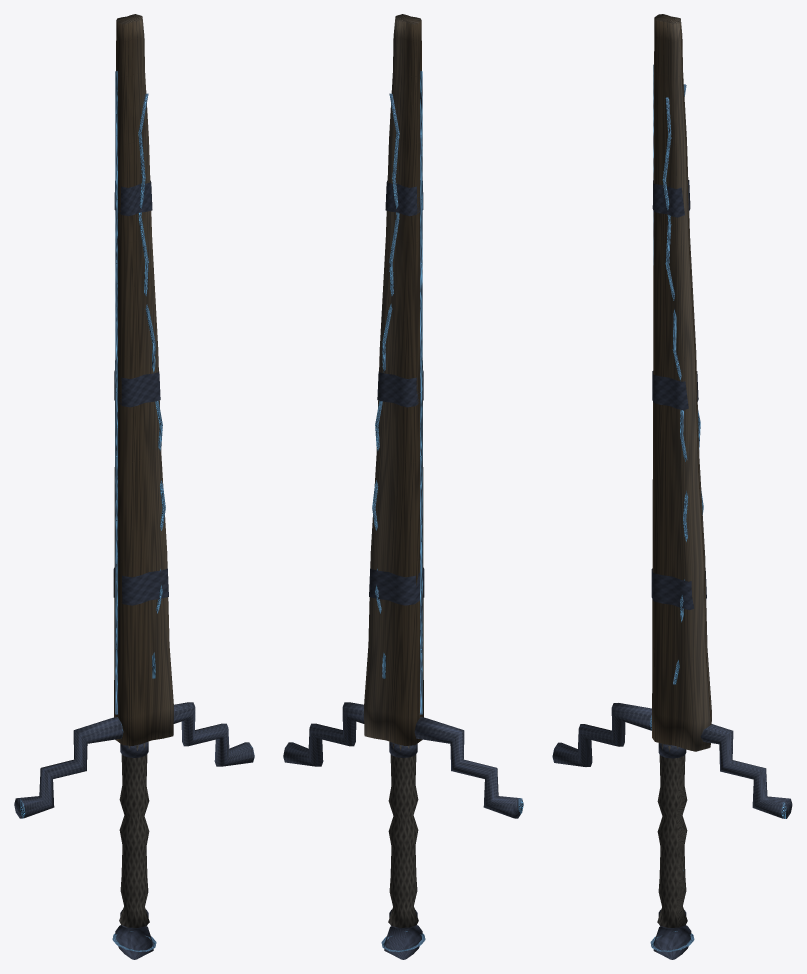
Rendered from sword_03_ironwood_storm.glb.
3 views of the same model, side by side, from view 1: azimuth 30°, elevation 25°; view 2: azimuth 150°, elevation 25°; view 3: azimuth 330°, elevation 25° (orthographic).
Parts seen in each view (by area): view 1: Blade_IronwoodSlab, Guard_BoltQuillons, Grip_StormWrappedLeather, Core_GroundedIronCore, Inlay_StormBoltSeams, Pommel_StormAnvil; view 2: Blade_IronwoodSlab, Guard_BoltQuillons, Grip_StormWrappedLeather, Core_GroundedIronCore, Inlay_StormBoltSeams, Pommel_StormAnvil; view 3: Blade_IronwoodSlab, Guard_BoltQuillons, Grip_StormWrappedLeather, Inlay_StormBoltSeams, Pommel_StormAnvil.
Part boxes in pixels (bbox=[...]): Blade_IronwoodSlab: bbox=[113, 14, 173, 745]; Guard_BoltQuillons: bbox=[14, 702, 254, 818]; Grip_StormWrappedLeather: bbox=[119, 742, 149, 927]; Core_GroundedIronCore: bbox=[115, 71, 117, 714]; Inlay_StormBoltSeams: bbox=[138, 93, 165, 678]; Pommel_StormAnvil: bbox=[112, 925, 156, 959]; Blade_IronwoodSlab: bbox=[364, 14, 424, 745]; Guard_BoltQuillons: bbox=[283, 702, 523, 818]; Grip_StormWrappedLeather: bbox=[388, 742, 418, 927]; Core_GroundedIronCore: bbox=[420, 71, 422, 714]; Inlay_StormBoltSeams: bbox=[372, 93, 399, 678]; Pommel_StormAnvil: bbox=[381, 925, 425, 959]; Blade_IronwoodSlab: bbox=[651, 14, 711, 751]; Guard_BoltQuillons: bbox=[552, 703, 792, 818]; Grip_StormWrappedLeather: bbox=[657, 743, 687, 927]; Inlay_StormBoltSeams: bbox=[662, 84, 703, 684]; Pommel_StormAnvil: bbox=[650, 925, 694, 959].
Size of the model in its own units: 0.6634 by 2.6 by 0.1415.
1 material, 1 textured.
